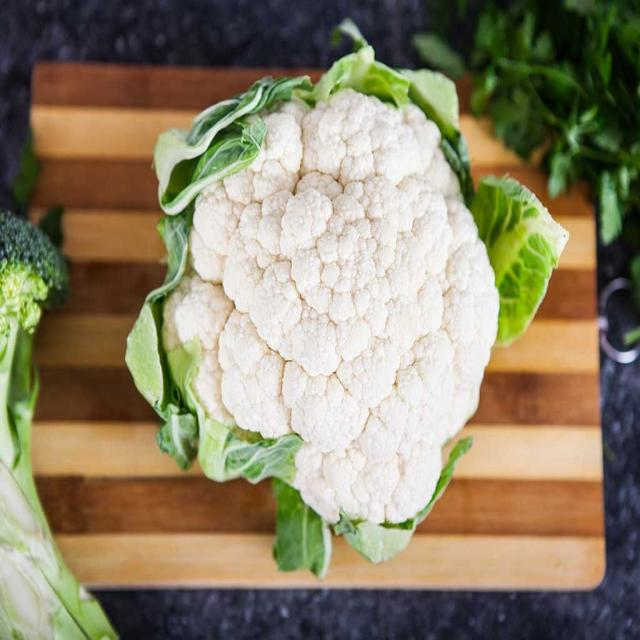cauliflower: (123, 24, 564, 572)
